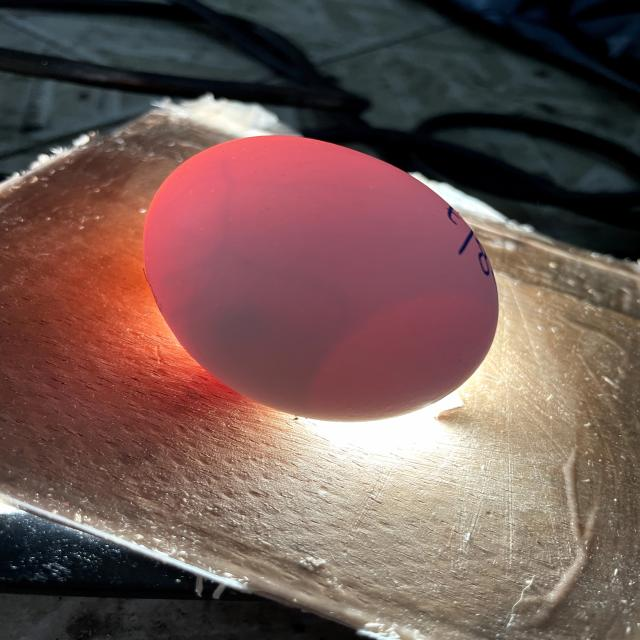fertile: (143, 136, 498, 421)
